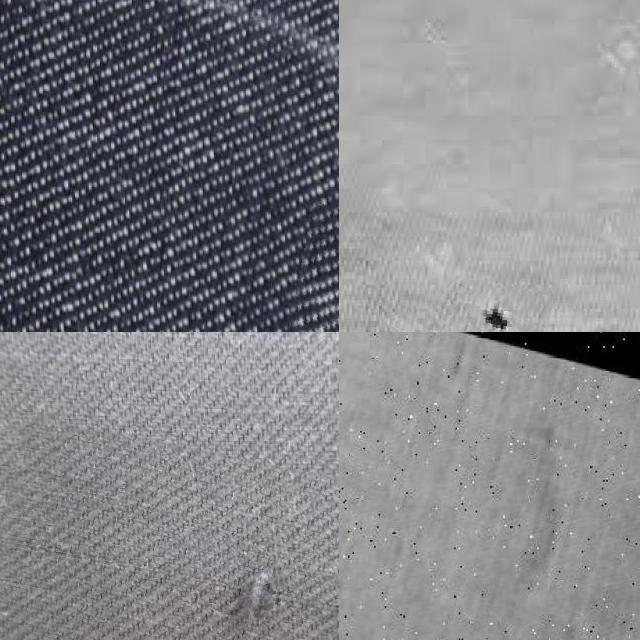other: (436, 278, 550, 332)
stains: (0, 436, 339, 640)
